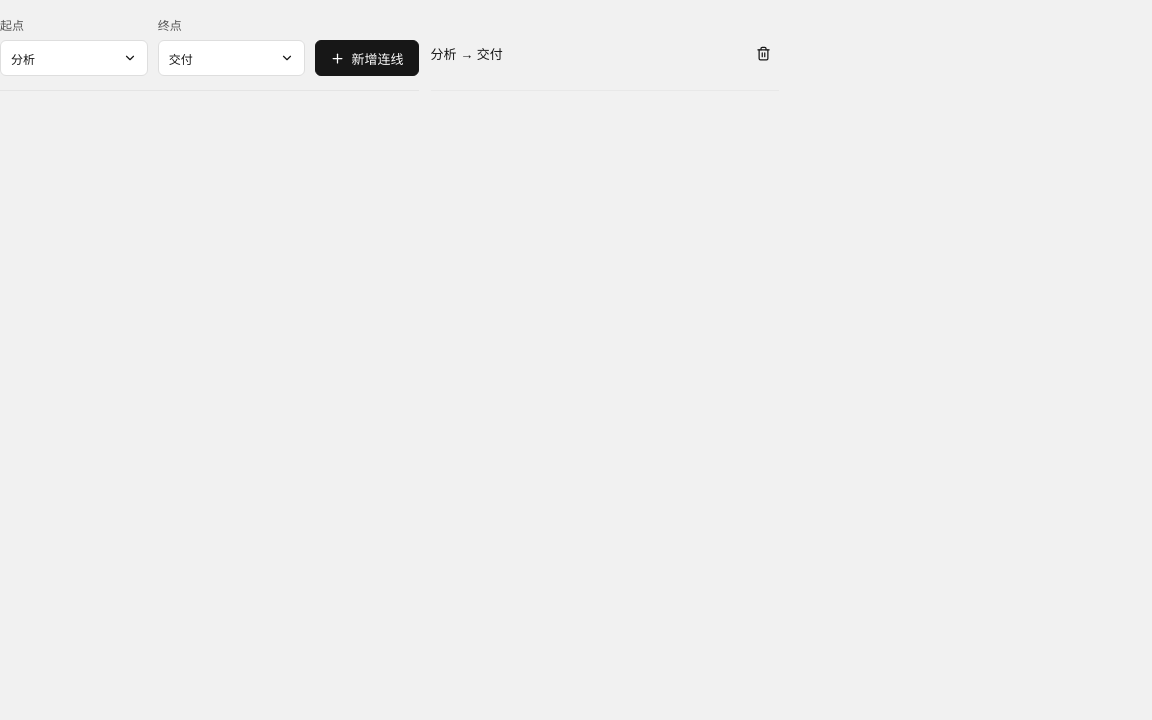
Test: WorkflowTemplateEdgeEditor transient command failures › publishes a safe Toast when deleting an edge fails
Click the button named "删除连线 分析 到 交付". click: (763, 53)
box: [747,37,779,69]
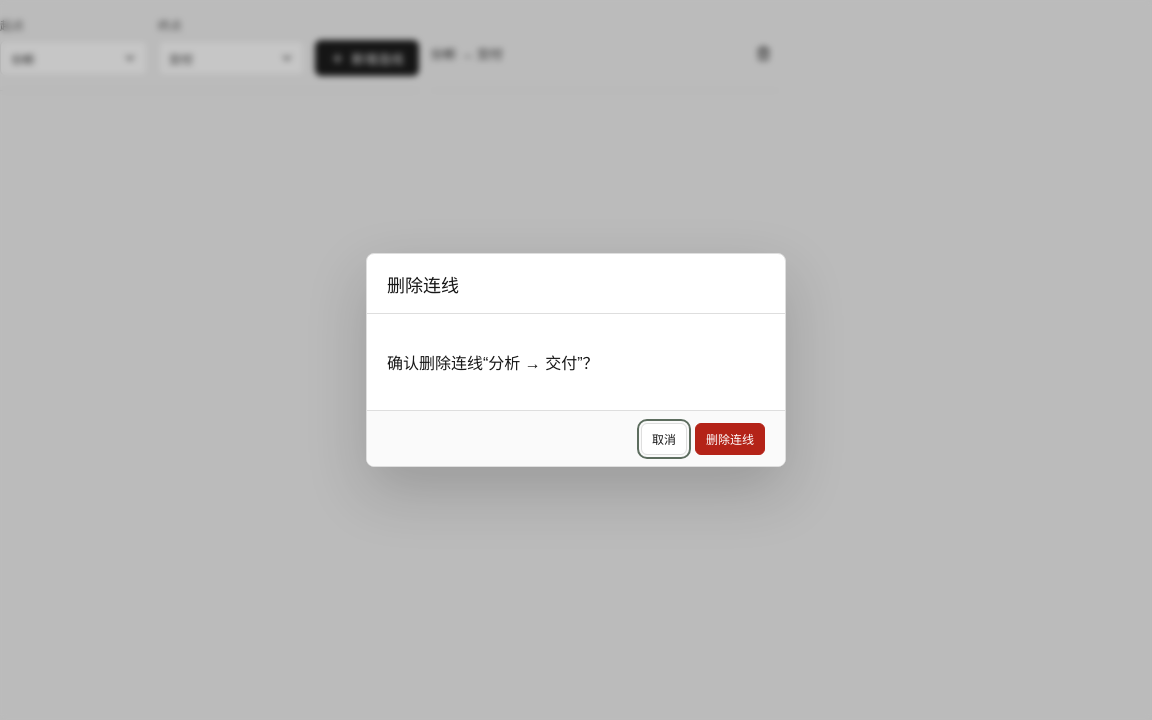
Click the button "删除连线". click: (730, 438)
box: [695,422,765,454]
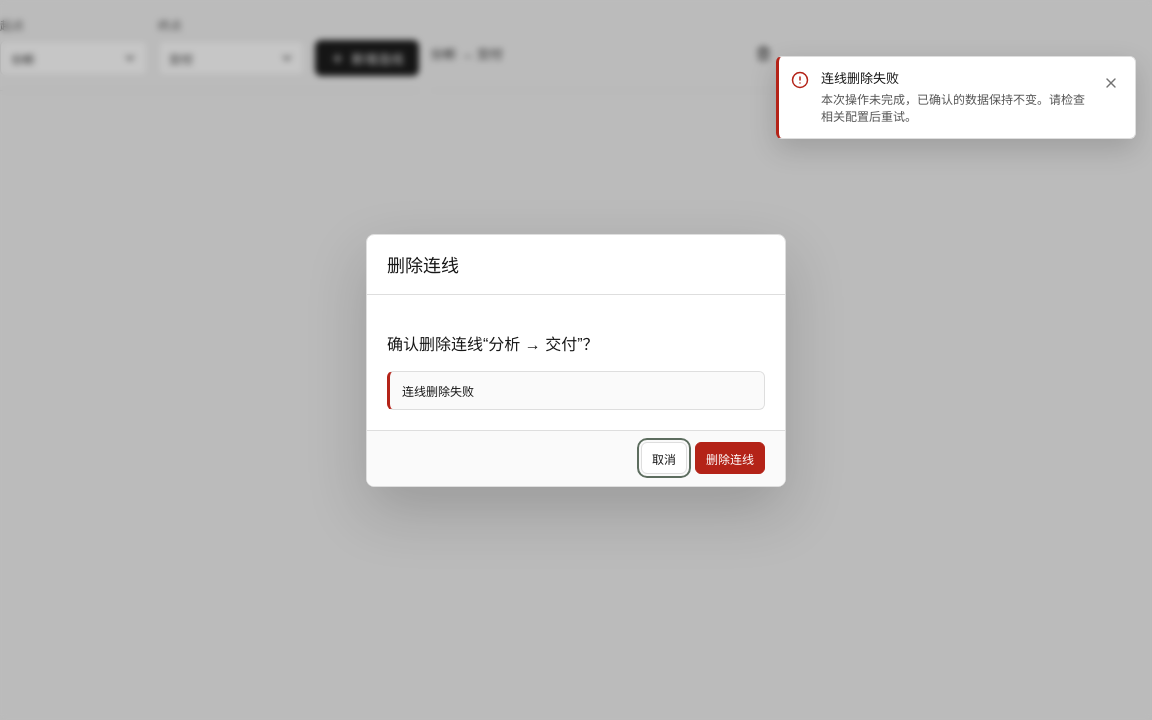
Now the message "连线删除失败 本次操作未完成，已确认的数据保持不变。请检查相关配置后重试。" is shown, box [776,56,1136,139]
